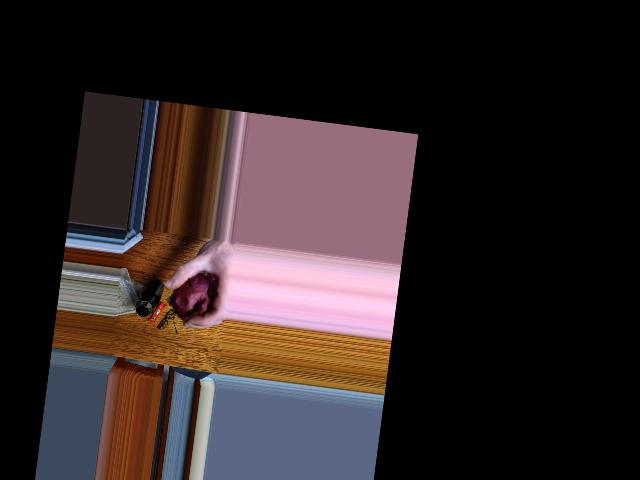onion: (175, 280, 209, 321)
